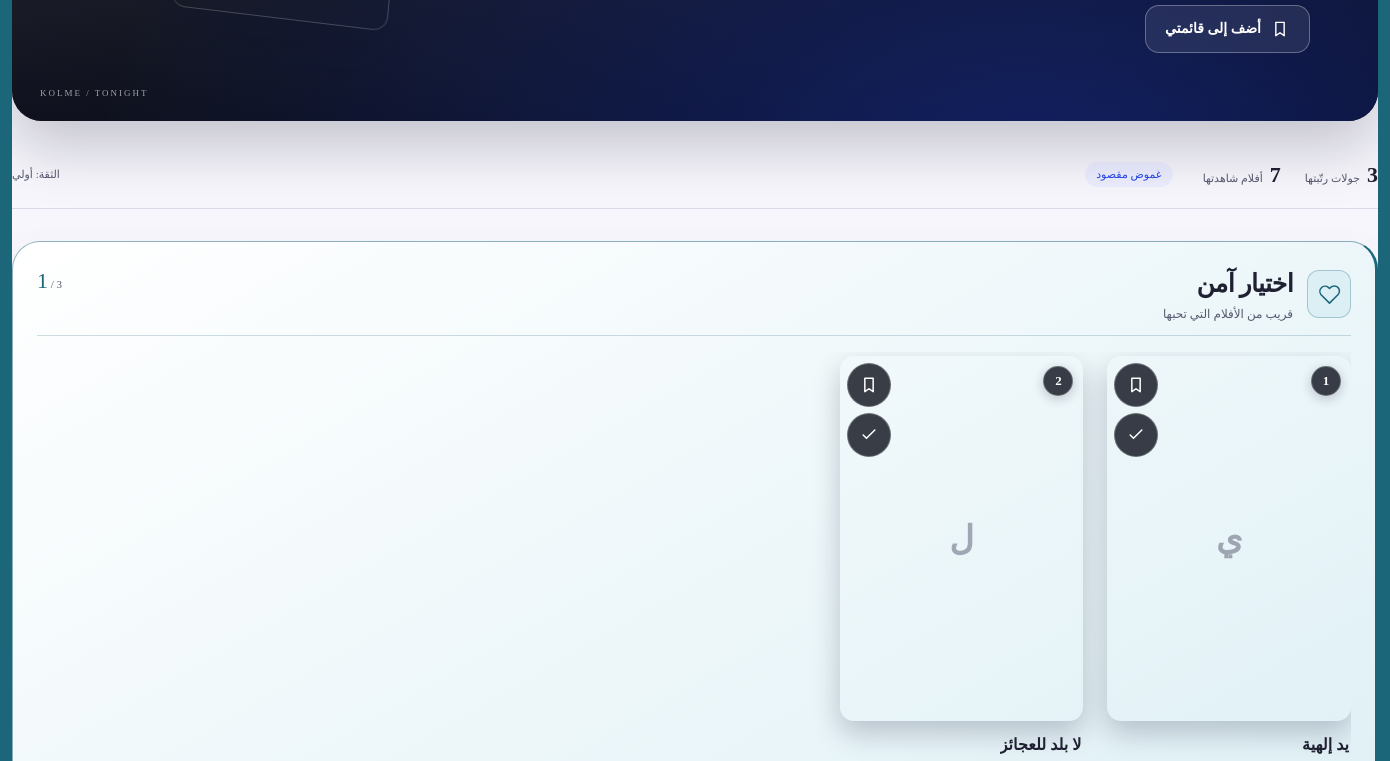
Test: RecommendationsScreen — ready › does not erase a confirmed save when an older watchlist snapshot arrives
This screenshot has width=1390, height=761.
(page scrolled)
Step 1. Click the 2nd button named "أضف إلى قائمتي" → (1136, 385), box [1114,363,1158,407]
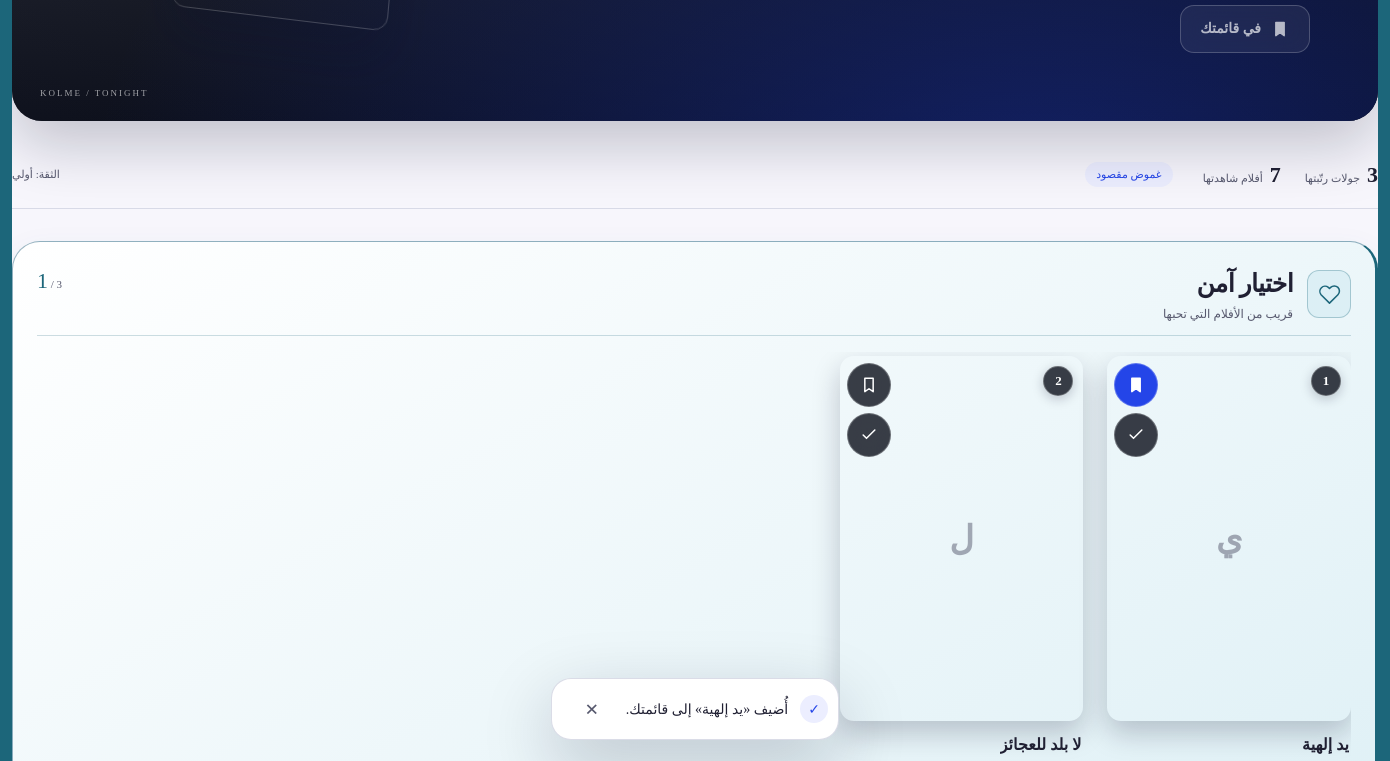
Result: the button named "في قائمتك" is disabled at [1114,363,1158,407]
